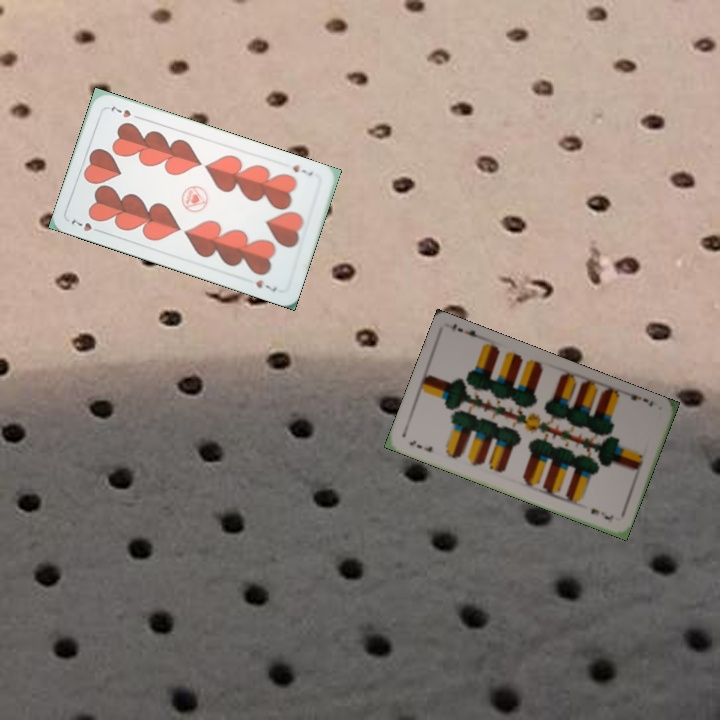E7: (622, 388, 656, 409), (405, 436, 435, 455)
H7: (67, 215, 105, 235), (288, 161, 315, 179)
